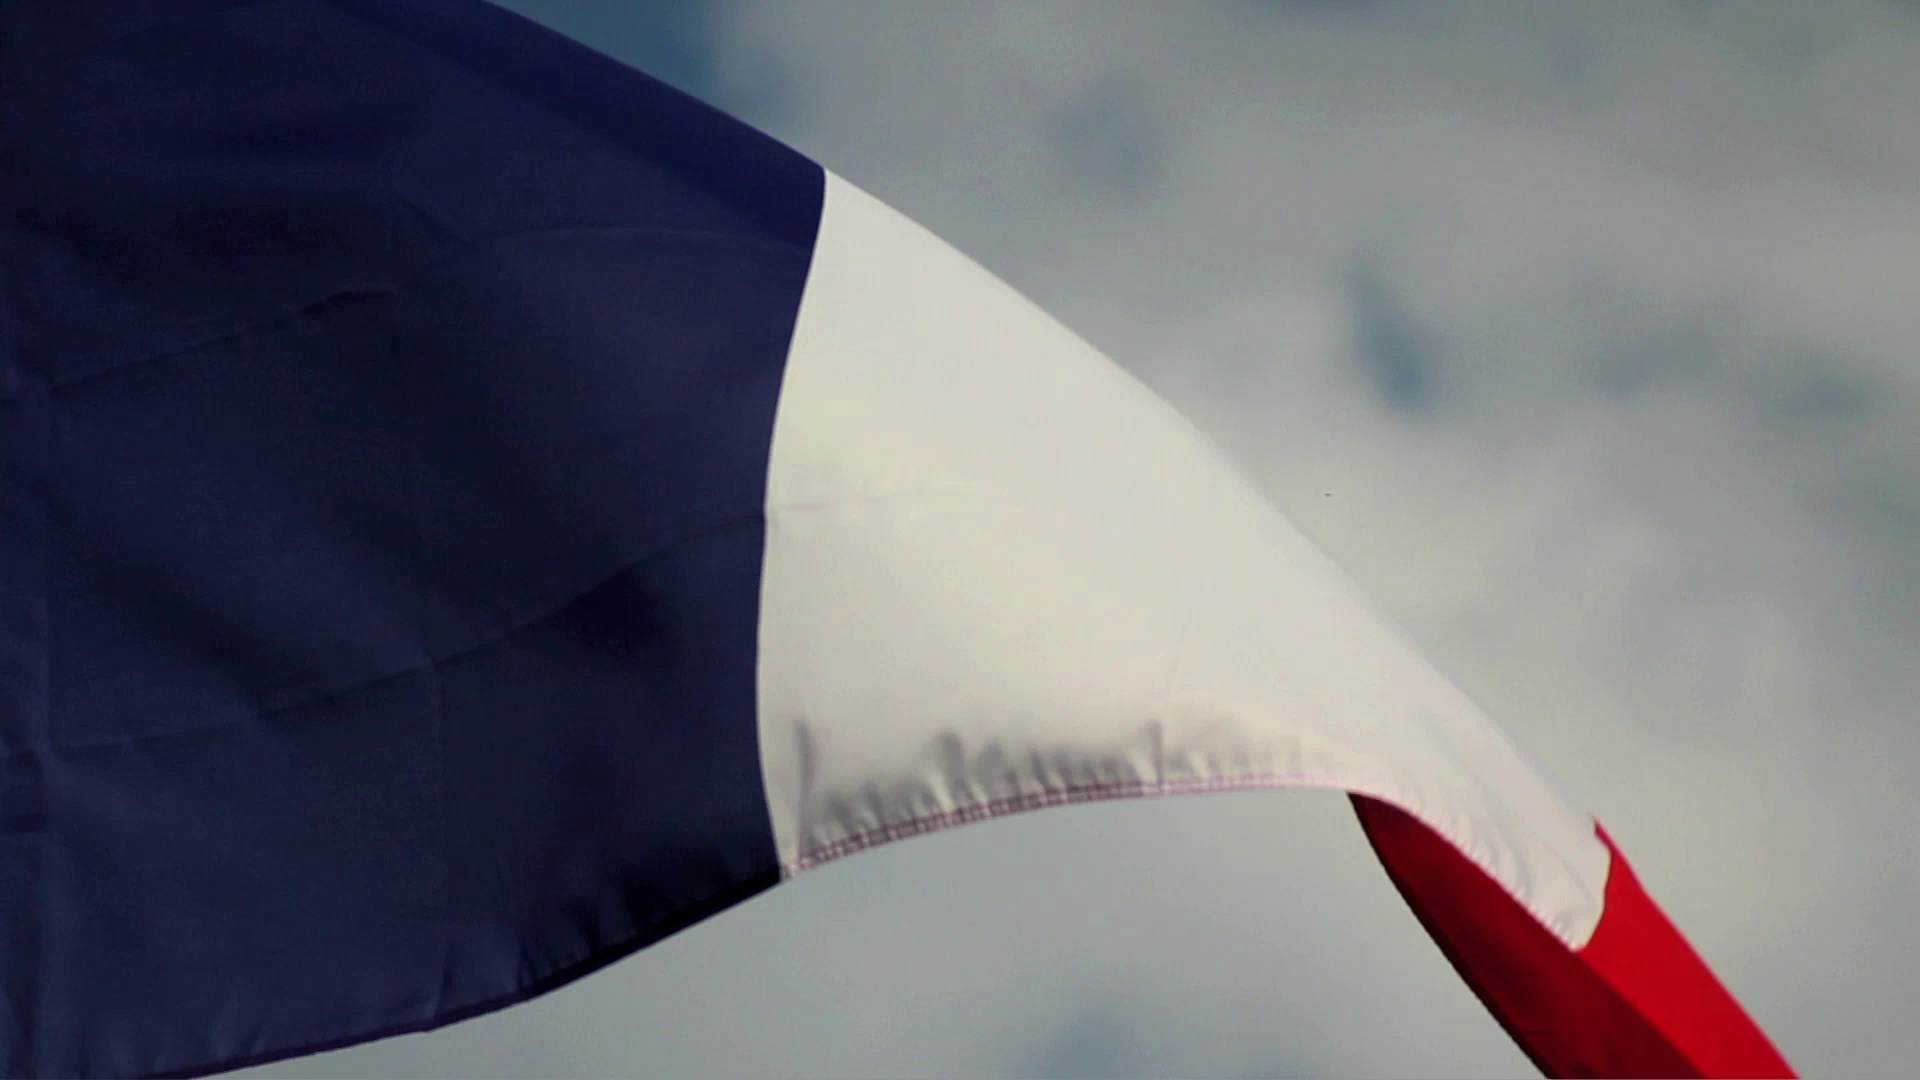French Flag: (1, 1, 1813, 1080)
